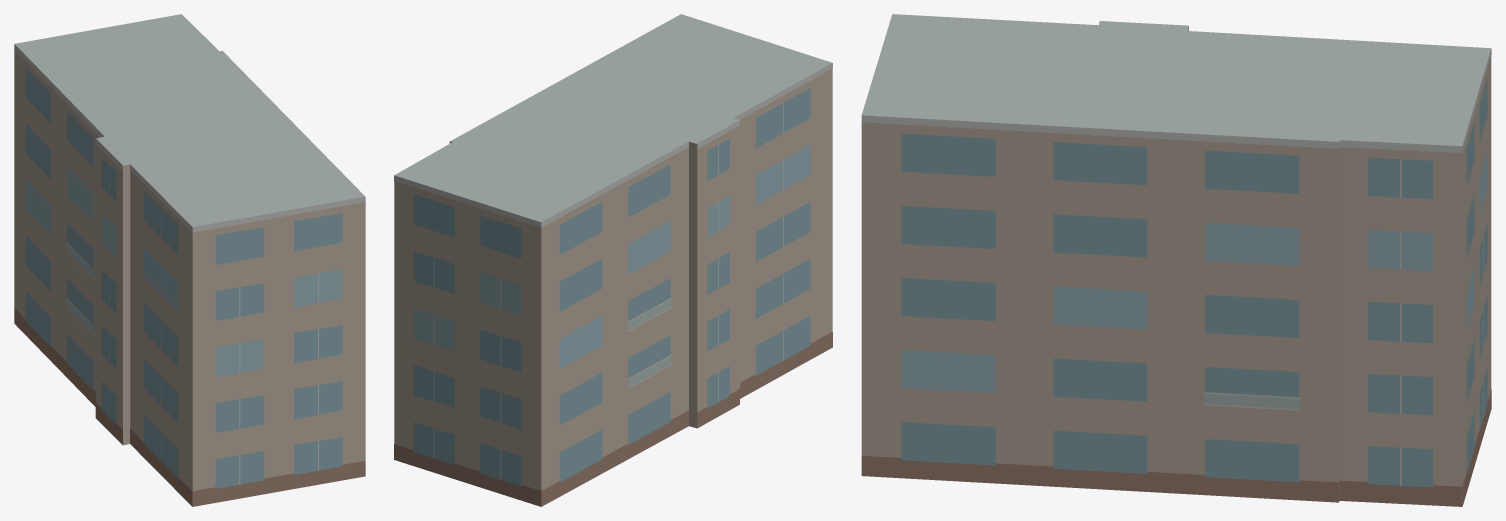
File: survey-upis-32923217.glb
The picture shows the model from 3 angles, left to right: view 1: azimuth 30°, elevation 25°; view 2: azimuth 150°, elevation 25°; view 3: azimuth 270°, elevation 25°; orthographic projection. The views are drawn at different scales.
Parts seen in each view (by area): view 1: survey-upis-32923217.tmp; view 2: survey-upis-32923217.tmp; view 3: survey-upis-32923217.tmp.
Part boxes in pixels (bbox=[...]): survey-upis-32923217.tmp: bbox=[14, 14, 365, 506]; survey-upis-32923217.tmp: bbox=[394, 14, 832, 506]; survey-upis-32923217.tmp: bbox=[861, 14, 1491, 506].
Size of the model in its own units: 9.92 by 12.6 by 19.96.
